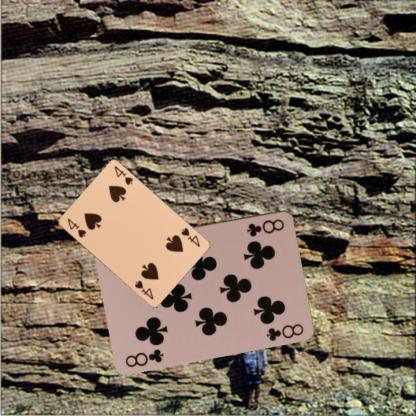4s: (178, 225, 201, 248), (65, 216, 87, 239)
8c: (123, 346, 165, 368), (244, 216, 285, 238)
